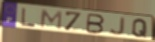7: (64, 10, 83, 32)
B: (85, 13, 106, 35)
J: (110, 17, 127, 36)
L: (21, 7, 38, 28)
M: (39, 9, 63, 31)
Q: (131, 18, 149, 39)
